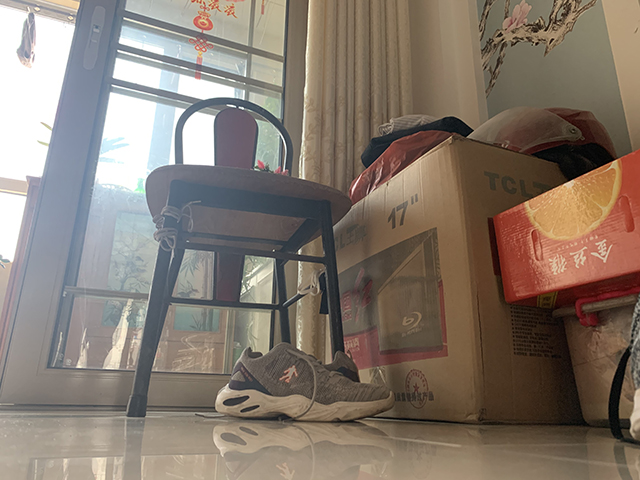stool: (121, 93, 349, 421)
